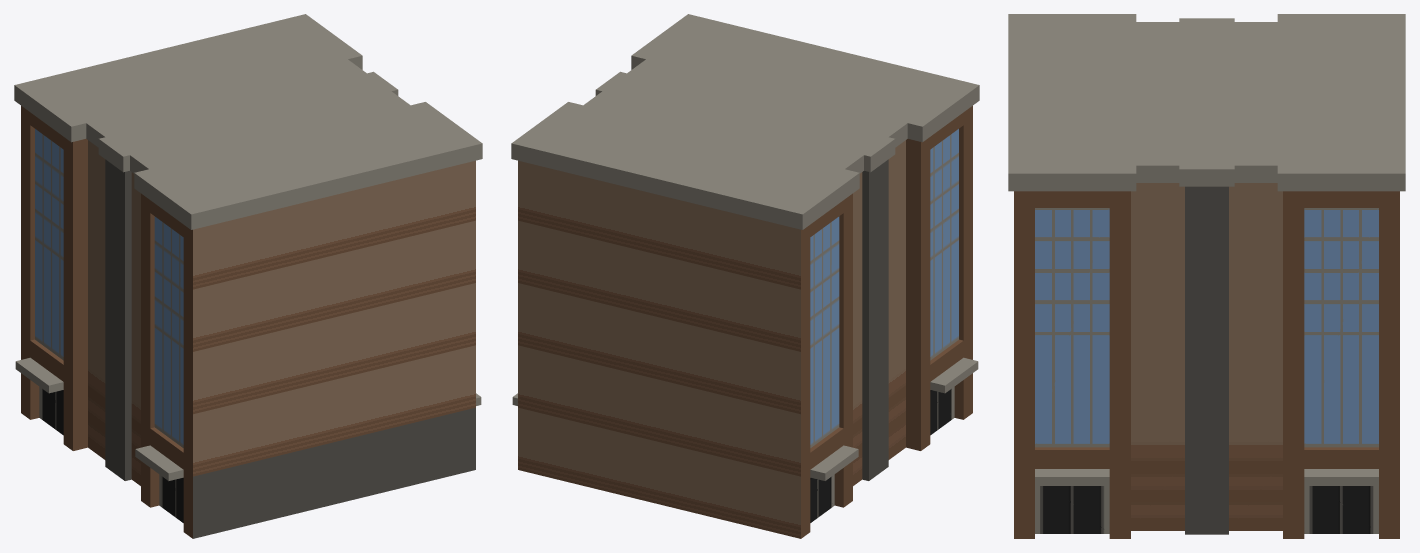
Rendered from qcu_bldg4.glb.
The picture shows the model from 3 angles, left to right: view 1: azimuth 30°, elevation 25°; view 2: azimuth 150°, elevation 25°; view 3: azimuth 270°, elevation 25°; orthographic projection. The views are drawn at different scales.
Visible parts, largest first — view 1: Admin bldg; view 2: Admin bldg; view 3: Admin bldg.
Part boxes in pixels (bbox=[...]): Admin bldg: bbox=[14, 14, 482, 538]; Admin bldg: bbox=[511, 14, 979, 538]; Admin bldg: bbox=[1008, 14, 1405, 538].
Bounding box in the file's own units: 2.1 × 2.1 × 2.06.
1 material, 1 textured.
